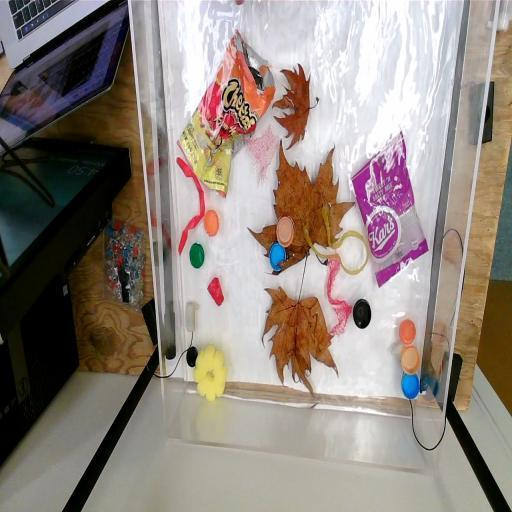Bottle Cap: (352, 295, 374, 334), (277, 210, 294, 248), (397, 316, 418, 346), (268, 238, 287, 270), (400, 345, 420, 374), (204, 207, 221, 240), (400, 374, 420, 402), (189, 240, 206, 272), (182, 344, 202, 369)
Cone Cap: (206, 274, 226, 308)
Leaf: (260, 271, 339, 409), (256, 156, 348, 272), (274, 57, 318, 151)
Netting: (321, 255, 353, 341), (246, 127, 280, 176)
Plastic Bag: (180, 26, 272, 196), (352, 132, 429, 284)
Plastic Strand: (170, 154, 205, 254), (323, 214, 369, 278)
Sponge: (194, 343, 229, 404)
